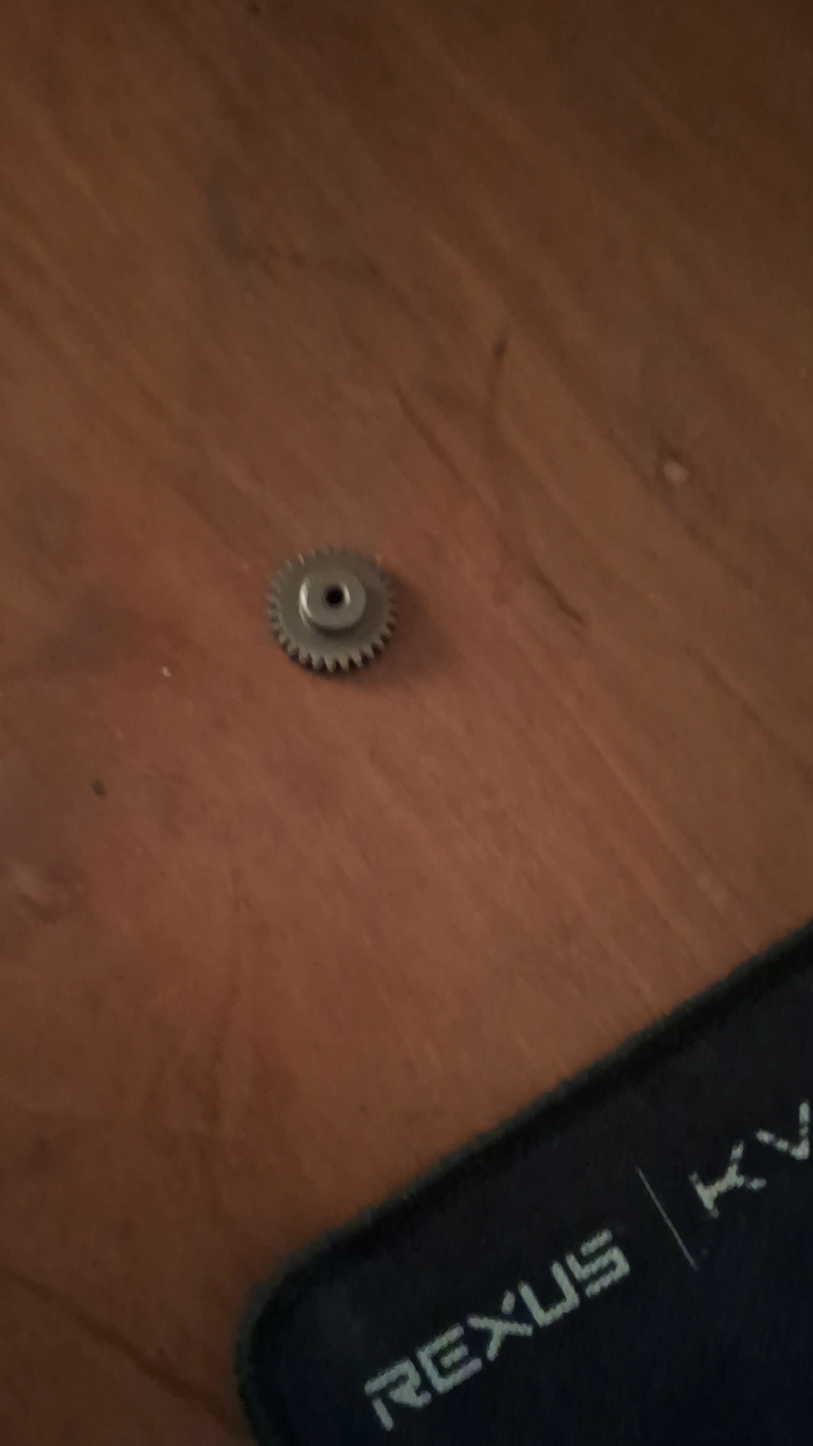spur gear: (269, 549, 394, 672)
